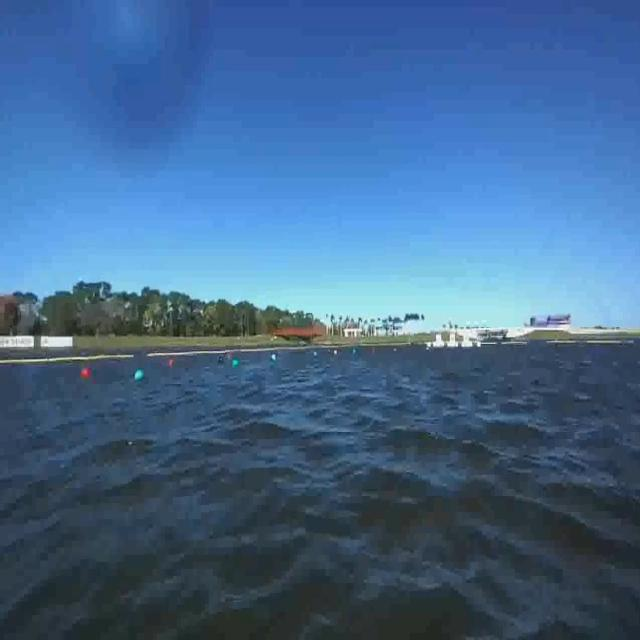green-buoy: (135, 367, 145, 381)
red-buoy: (76, 362, 93, 385)
